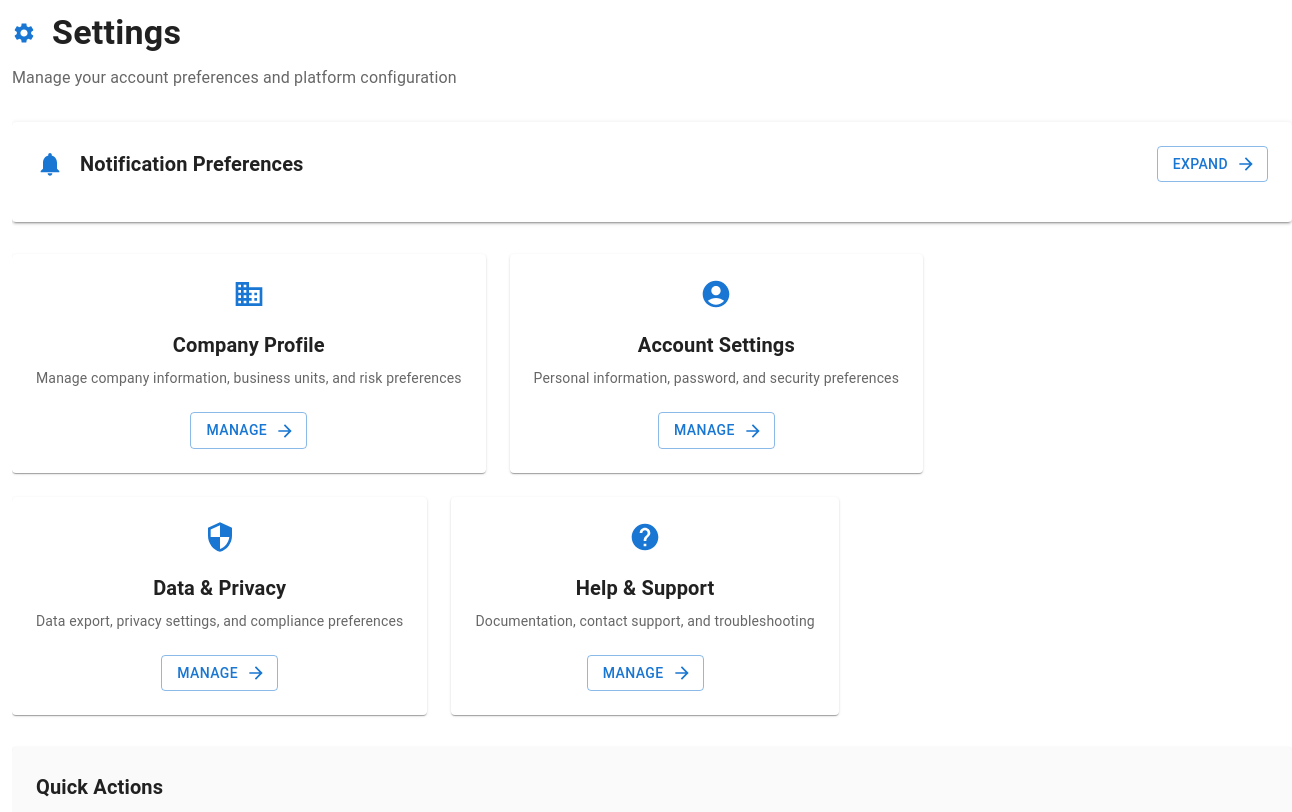
Settings › expands notification settings when expand button is clicked
Click the button "Expand".
click(1212, 164)  # box [1157,146,1268,182]
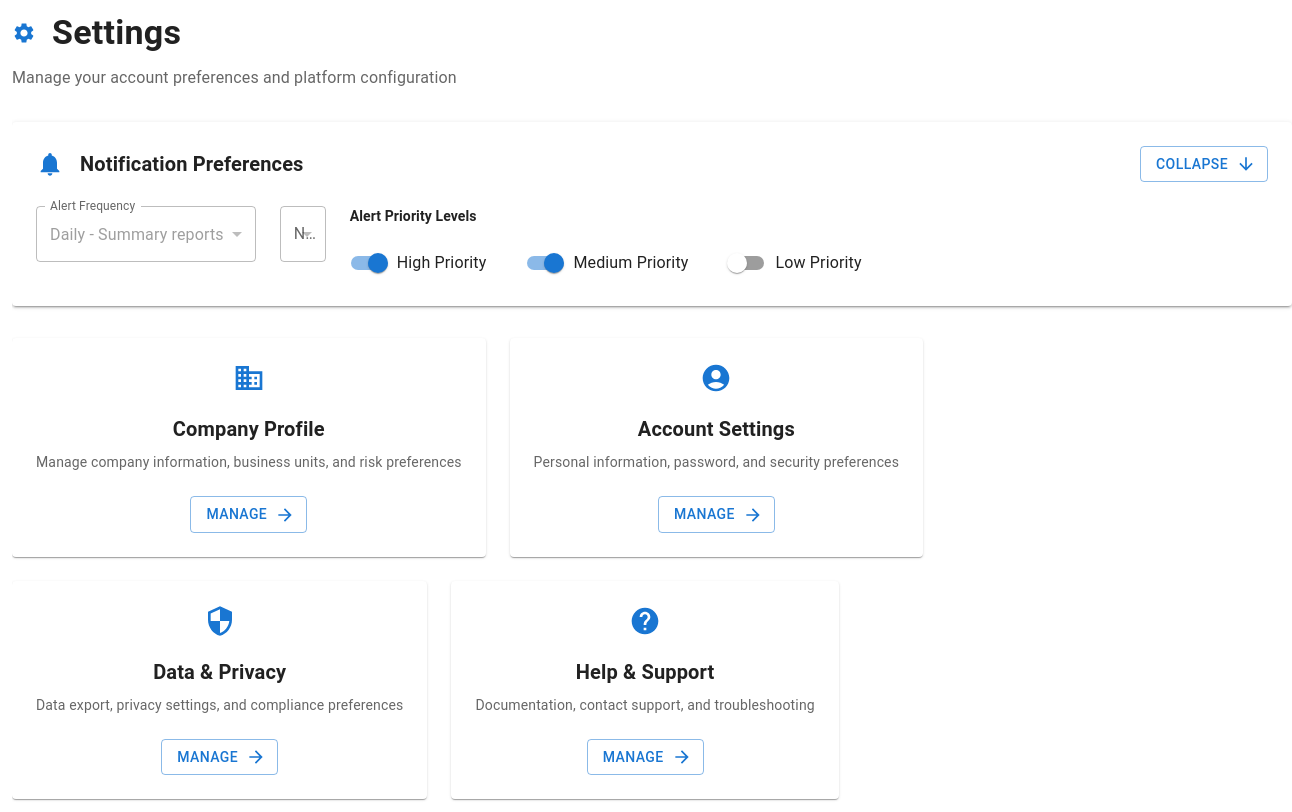
Check: the button "Collapse" is shown, box [1140,146,1268,182]
Check: the text "Alert Frequency" is shown, box [50,197,135,215]
Check: the text "Notification Methods" is shown, box [294,222,316,245]
